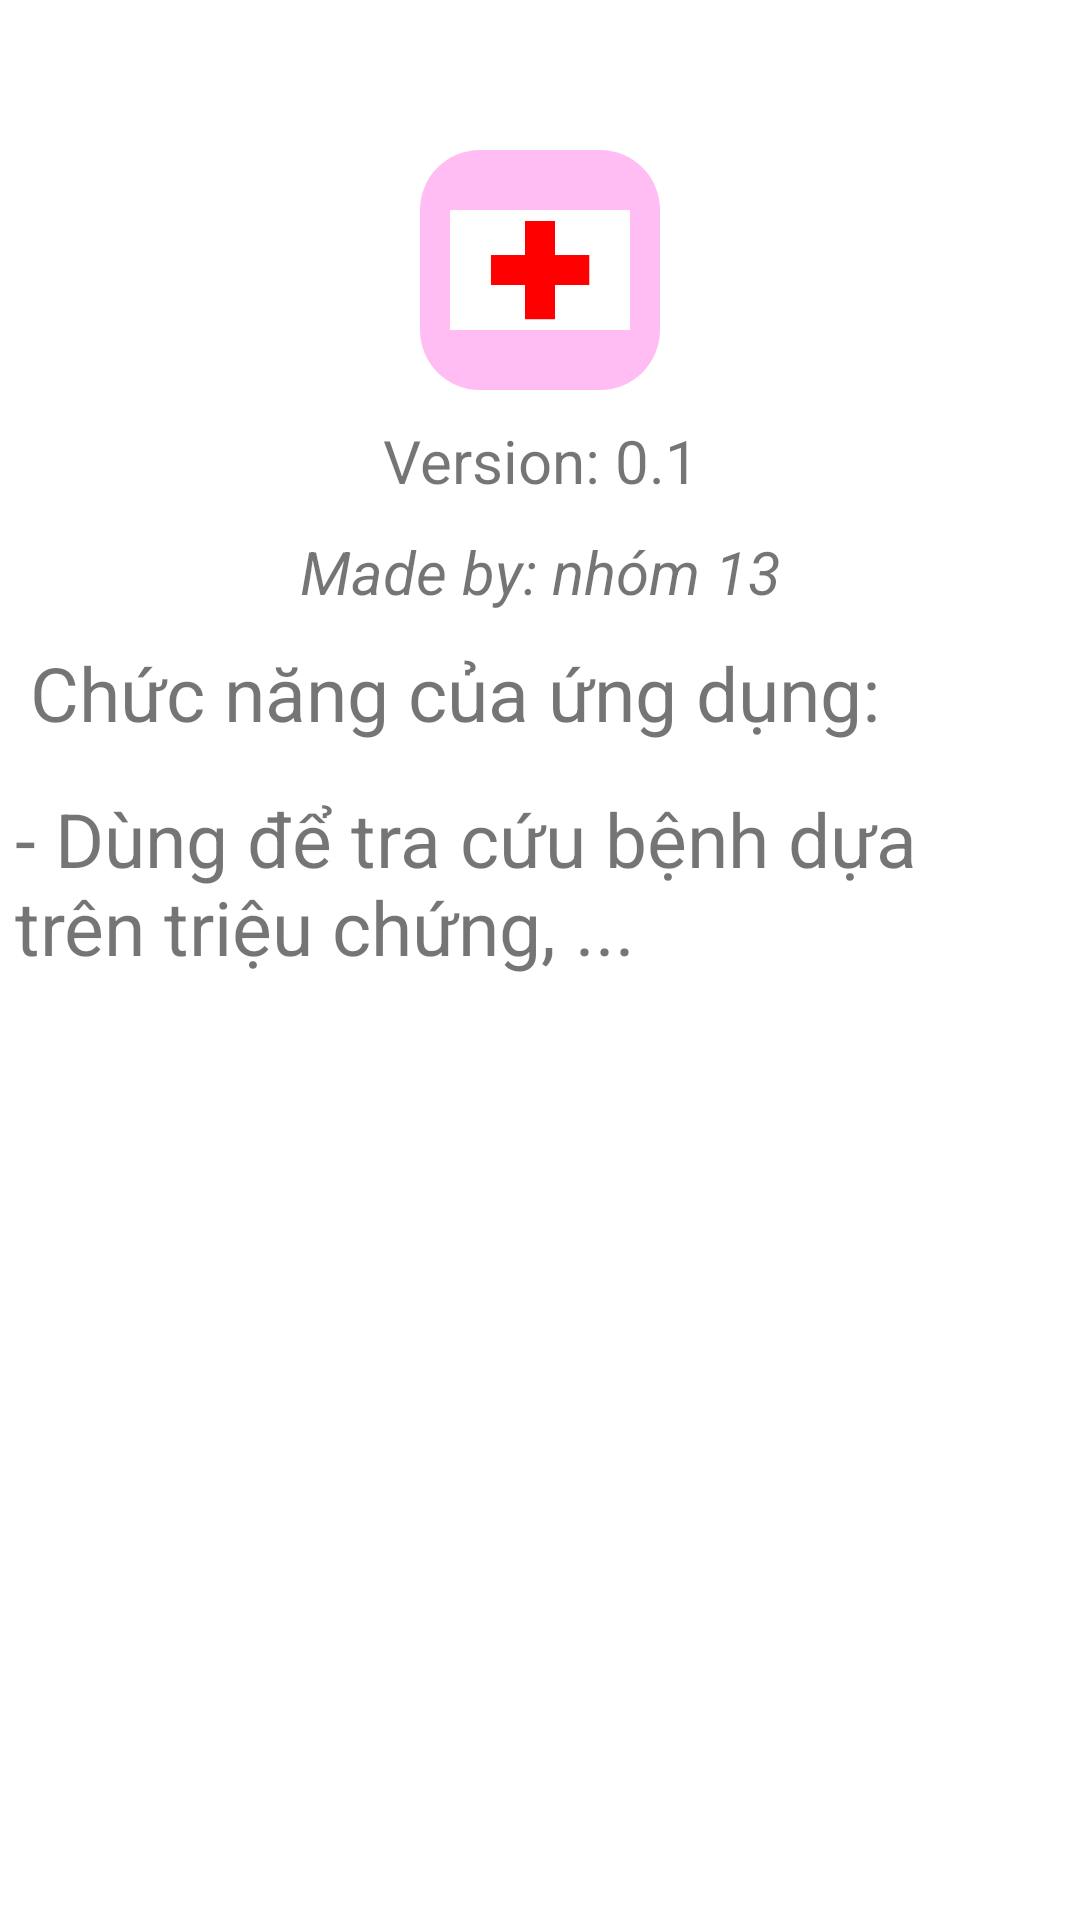

Icon bounding boxes for this 1080w x 1920h phone screenshot, format (x1, y1, x2, y2):
app: (420, 150, 660, 390)
